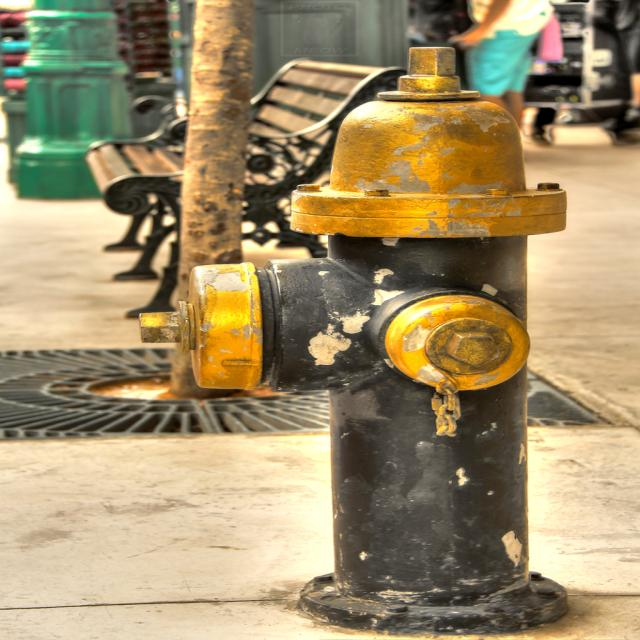fire_hydrant: (141, 49, 567, 633)
